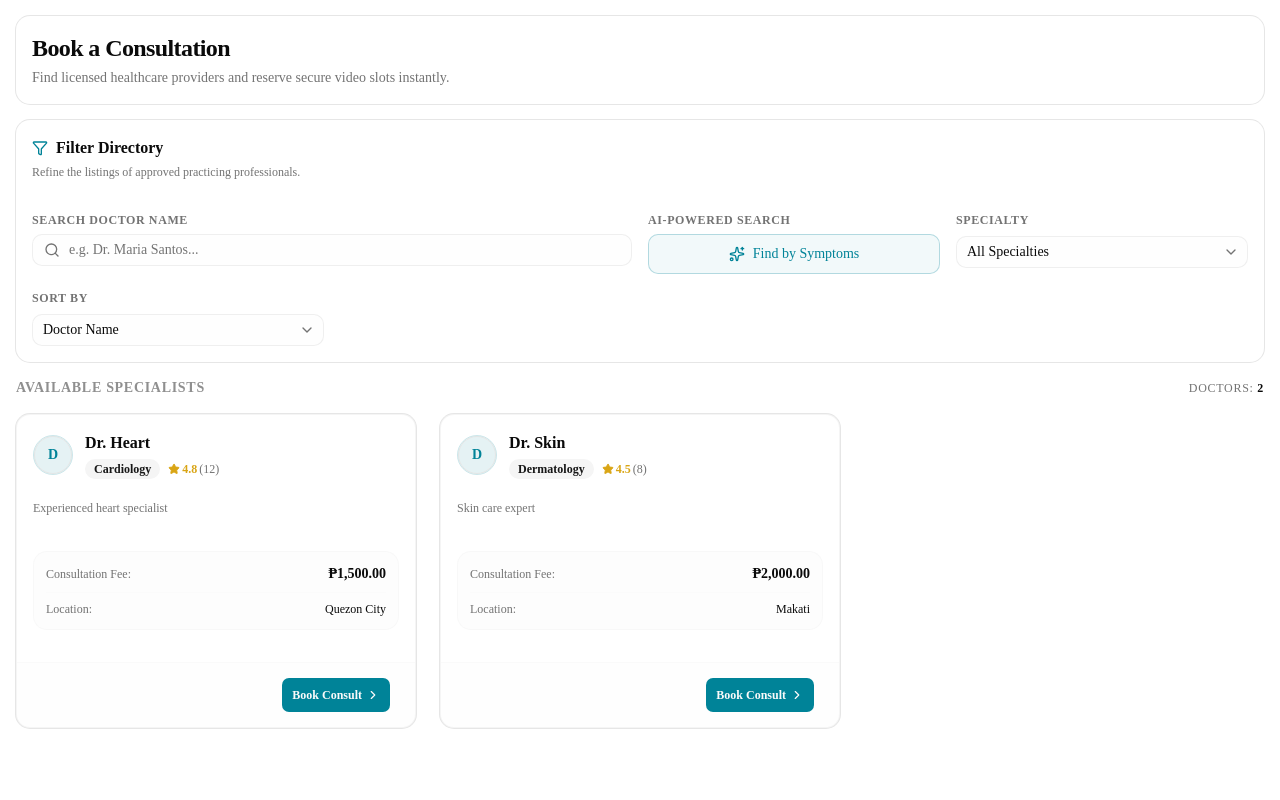
it: BookAppointmentPage - AI symptom feature › opens the symptom dialog when clicking Find by Symptoms
This screenshot has width=1280, height=800.
Expected: the text "Book a Consultation" is shown, [32,35,230,61]
Click the button "Find by Symptoms": x=794, y=254 [648,234,940,274]
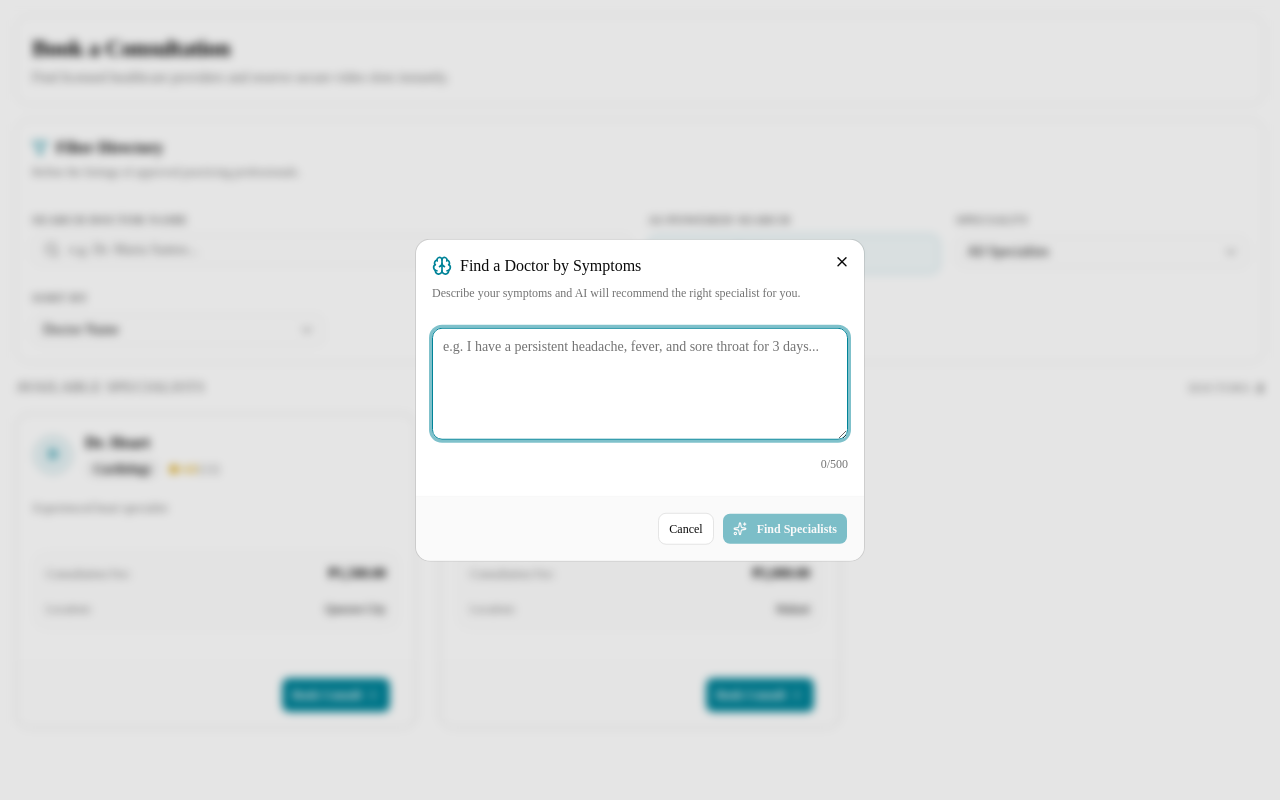
Now the heading "Find a Doctor by Symptoms" is shown, box [432,256,641,276]
